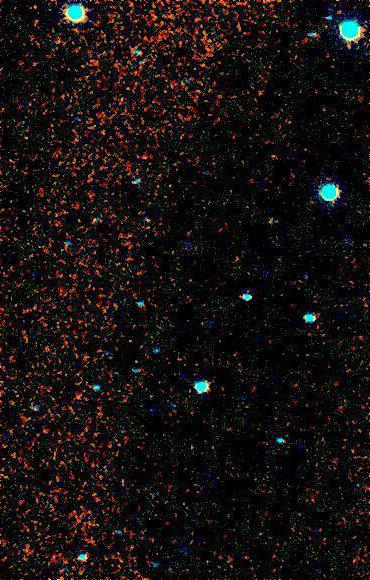star: (23, 0, 53, 30)
